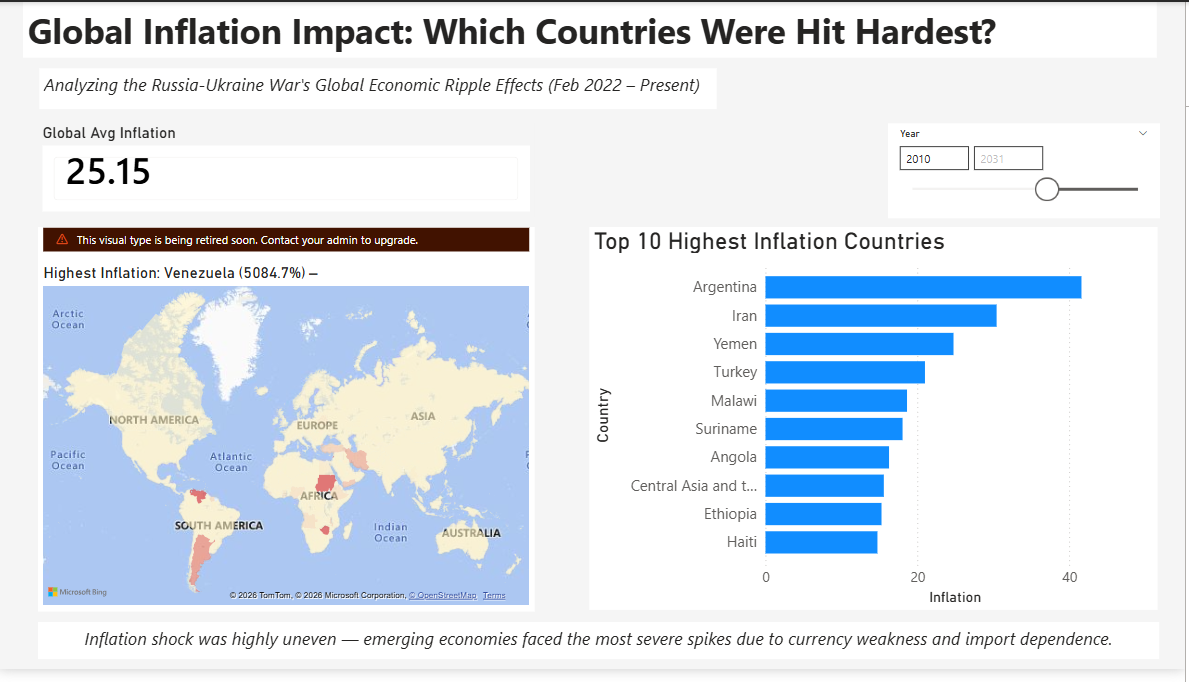

What the dashboard file says about the page in this screenshot:
{"tool":"powerbi","page":{"name":"2. The Global Map","canvas":[1280,720],"ordinal":1},"visuals":[{"type":"textbox","box":[27.5,0,1222.5,60],"z":0},{"type":"textbox","box":[44.3,71.8,730.1,44.3],"z":1000},{"type":"filledMap","fields":{"Category":["Inflation.Country"]},"box":[43.3,242.2,535.6,414.4],"z":2000},{"type":"slicer","fields":{"Values":["Inflation.Year"]},"box":[960,131.2,292.5,101.2],"z":3000},{"type":"cardVisual","title":"Global Avg Inflation ","fields":{"Data":["Inflation.Global_Avg_Inflation"]},"box":[43.3,131.1,535.6,101.1],"z":4000},{"type":"clusteredBarChart","title":"Top 10 Highest Inflation Countries","fields":{"Category":["Inflation.Country"],"Y":["Inflation.Inflation_Correct"]},"box":[637.5,242.5,612.5,412.5],"z":5000},{"type":"textbox","box":[43.8,668.8,1208.8,40],"z":5001}]}

Visuals, with their boxes in screenshot pixels (x1, y1, x2, y2), scaled from the page's 1280x720 canvas onto the 1189x682 screenshot:
textbox: 26, 0, 1161, 57
textbox: 41, 68, 719, 110
filledMap - Inflation.Country: 40, 229, 538, 622
slicer - Inflation.Year: 892, 124, 1163, 220
"Global Avg Inflation " cardVisual: 40, 124, 538, 220
"Top 10 Highest Inflation Countries" clusteredBarChart: 592, 230, 1161, 620
textbox: 41, 634, 1164, 671
